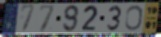2: (80, 4, 101, 34)
3: (106, 5, 123, 32)
7: (38, 4, 57, 34), (19, 3, 36, 34)
9: (61, 4, 79, 33)
O: (124, 5, 144, 32)
